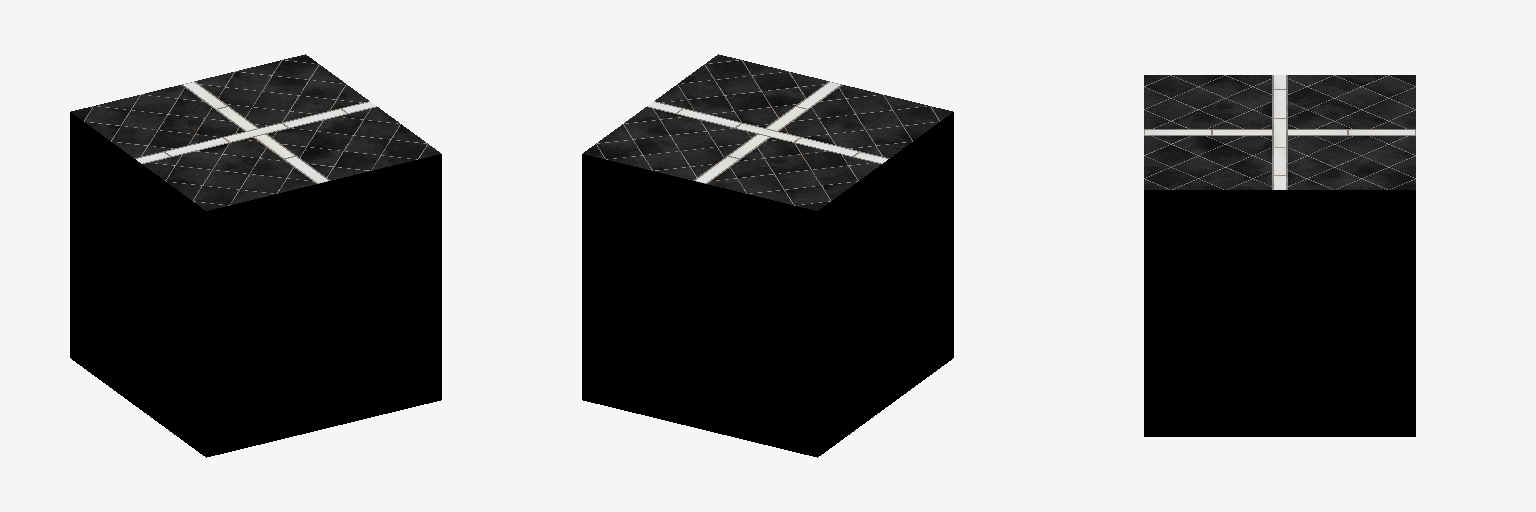
3 renders of one model, left to right at view 1: azimuth 30°, elevation 25°; view 2: azimuth 150°, elevation 25°; view 3: azimuth 270°, elevation 25°, orthographic.
Parts seen in each view (by area): view 1: Cube_Cube.001, Plane_Plane.001; view 2: Cube_Cube.001, Plane_Plane.001; view 3: Cube_Cube.001, Plane_Plane.001.
Boxes of the visible parts, box(x1,y1,x2,y2) form: Cube_Cube.001: box(70, 112, 441, 457); Plane_Plane.001: box(71, 54, 440, 210); Cube_Cube.001: box(582, 112, 953, 457); Plane_Plane.001: box(583, 54, 952, 210); Cube_Cube.001: box(1144, 190, 1415, 436); Plane_Plane.001: box(1144, 75, 1415, 189).
Size of the model in its own units: 40 by 40.01 by 40.
2 materials, 1 textured.